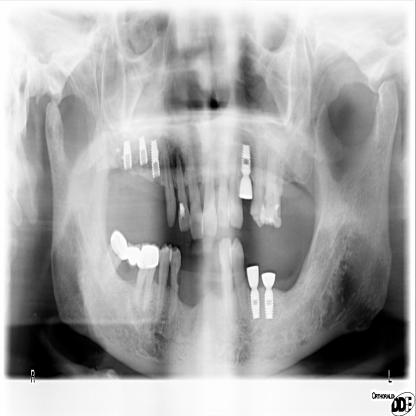Bicon: (238, 138, 254, 178), (148, 138, 162, 180), (136, 130, 150, 170), (120, 137, 134, 174), (246, 288, 262, 320), (263, 288, 275, 320)
